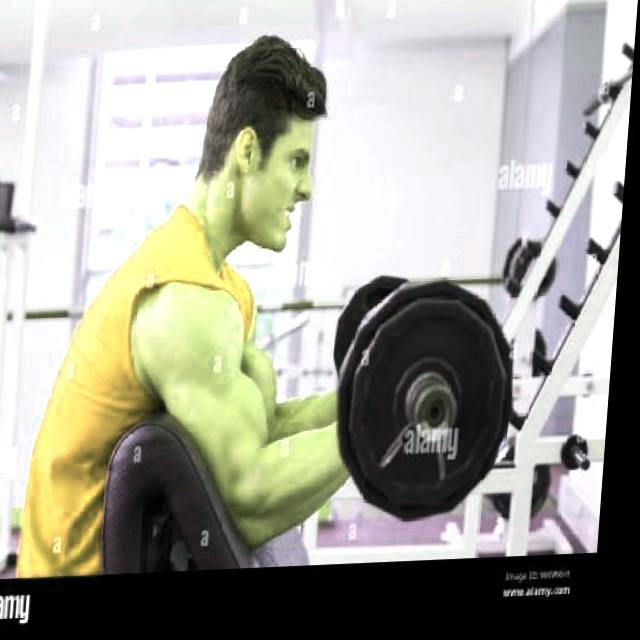barbell: (334, 277, 530, 535)
